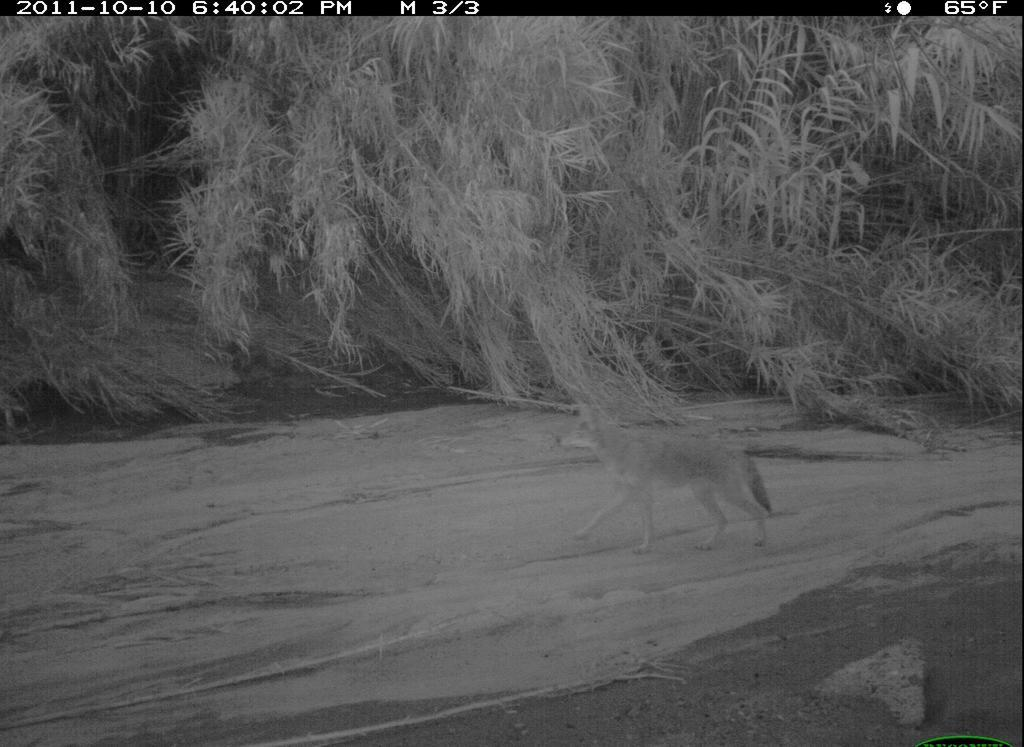coyote: (527, 387, 777, 564)
